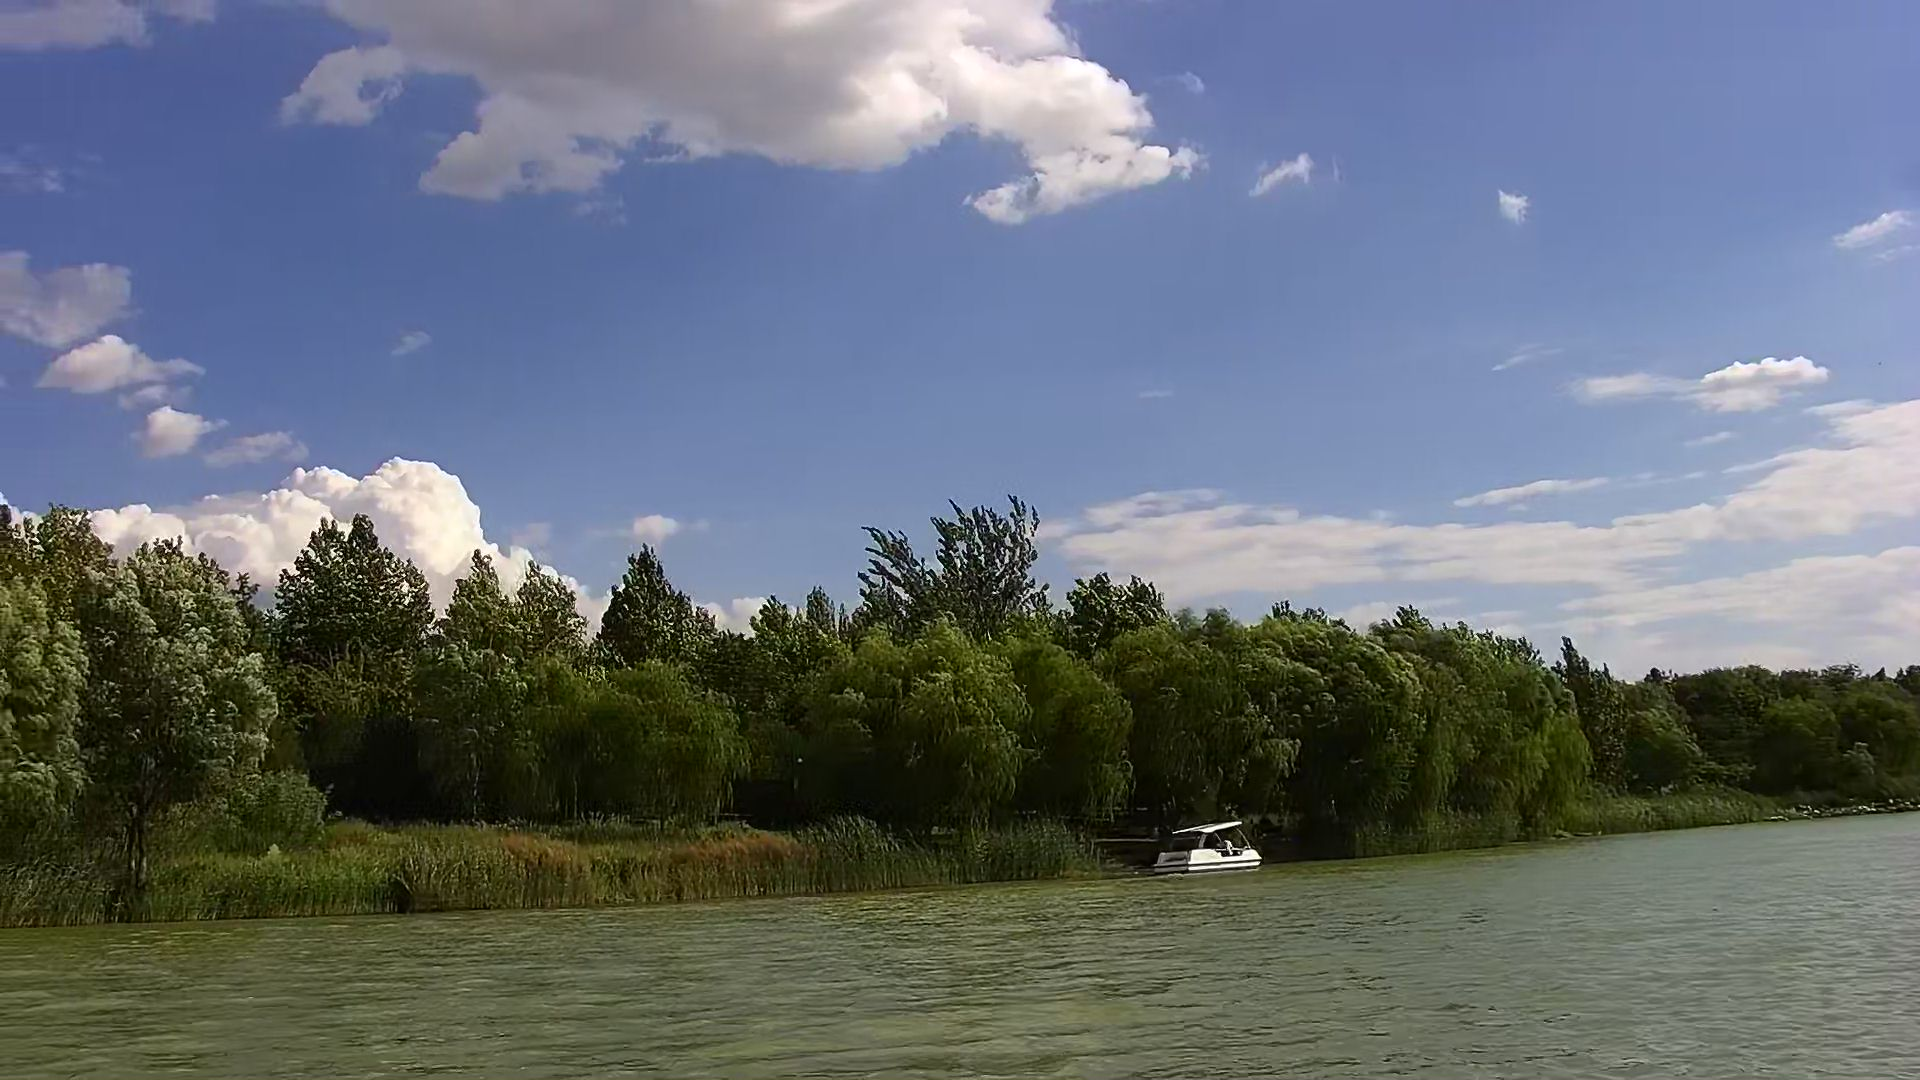boat: (1156, 822, 1267, 874)
